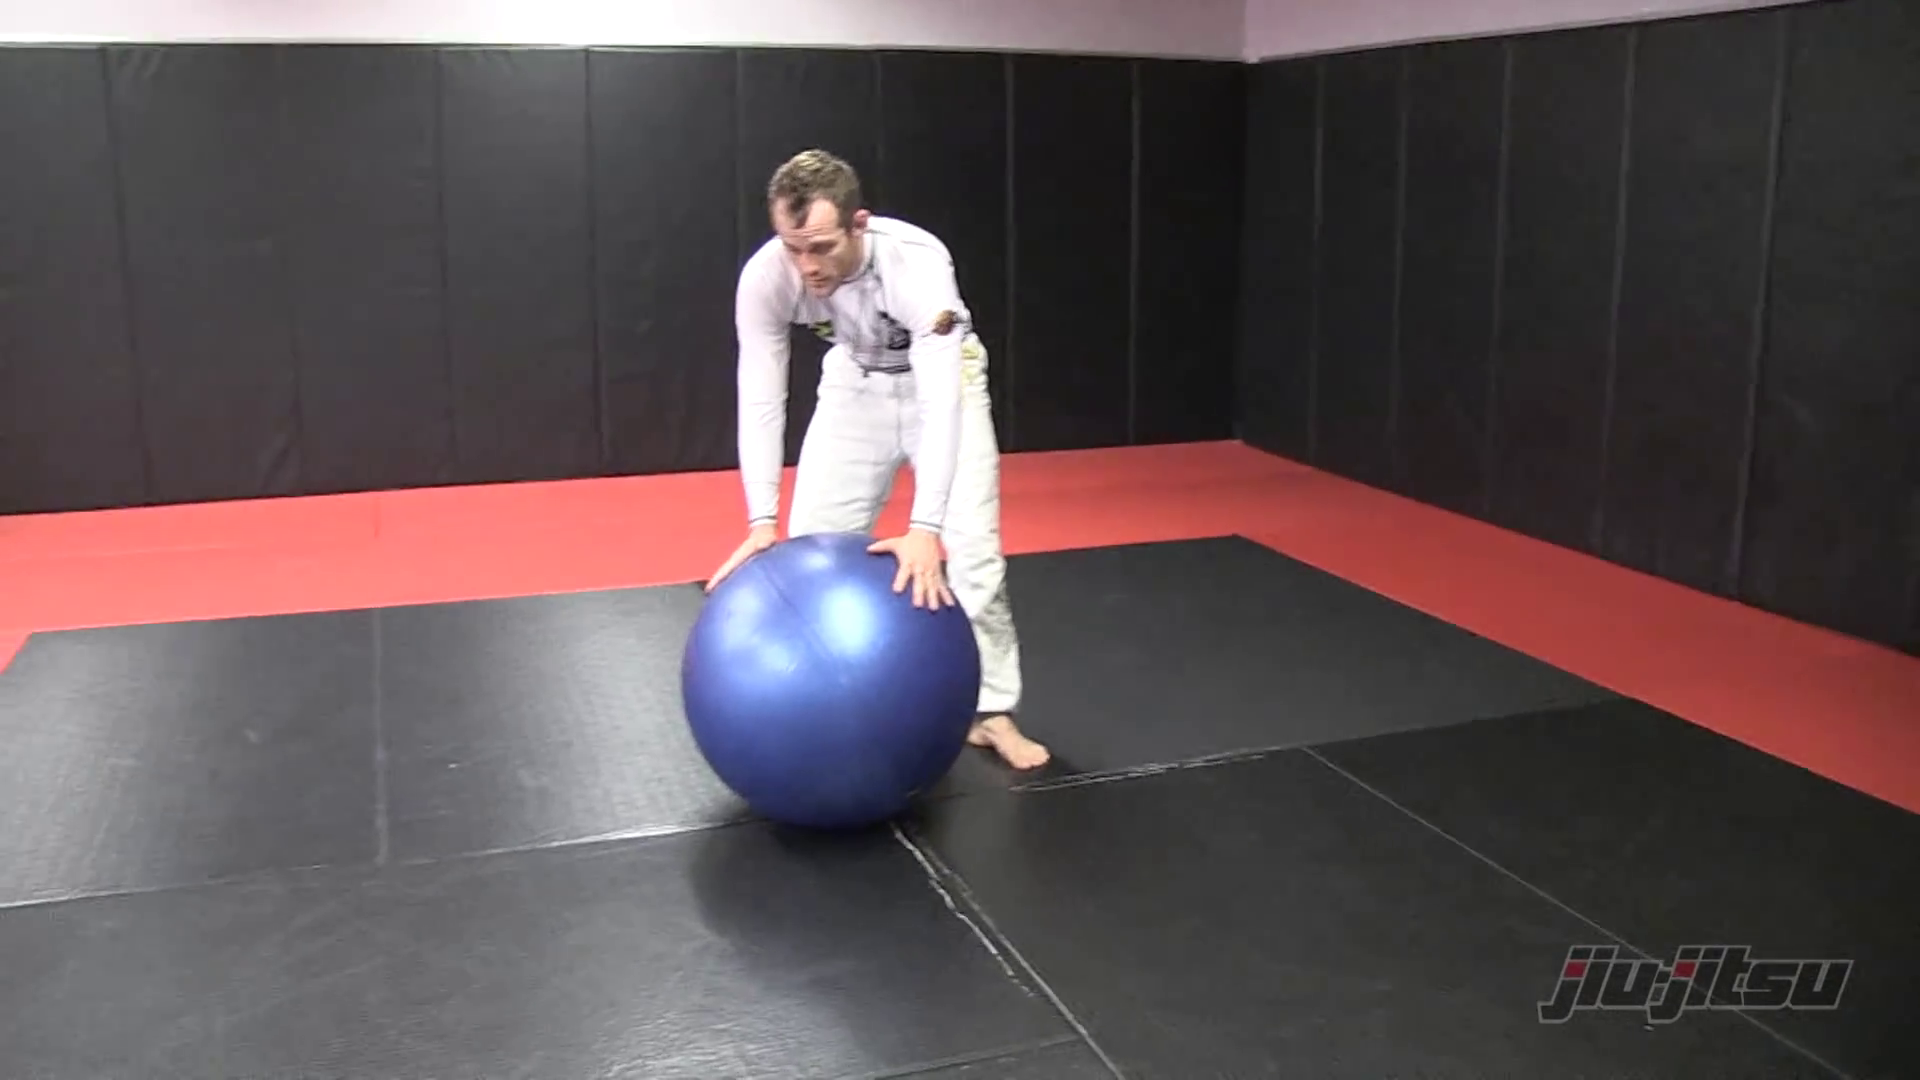yogaball: (673, 530, 984, 855)
